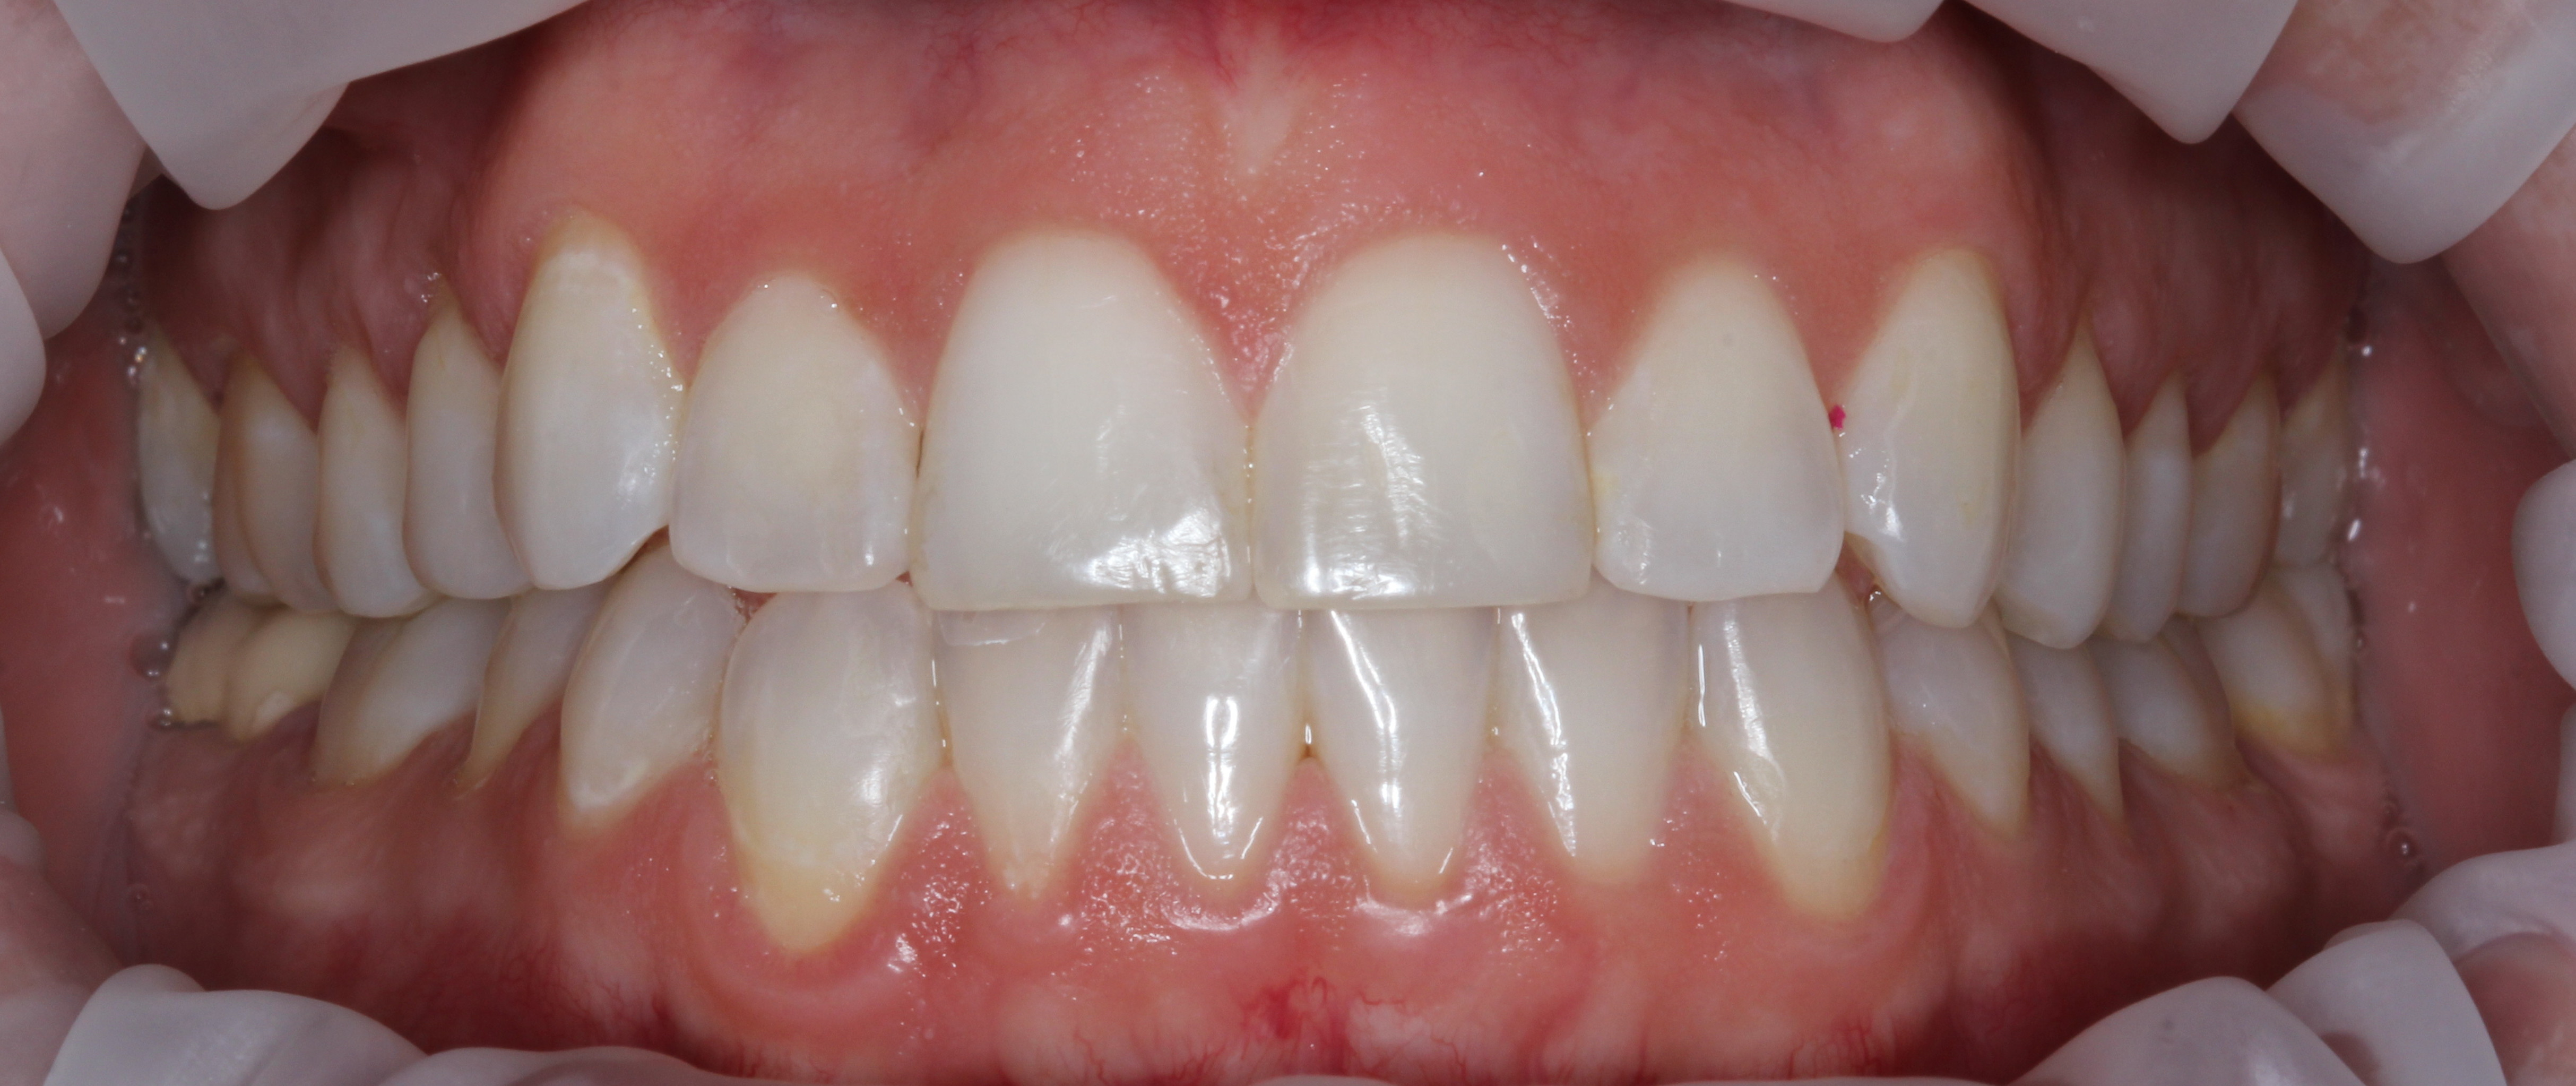LL1BC_healthy: (1886, 624, 2035, 828)
LL1M_healthy: (2119, 636, 2228, 784)
LL2BC_healthy: (2034, 651, 2114, 798)
LL2M_healthy: (2228, 603, 2361, 743)
LLCI_healthy: (1299, 613, 1495, 884)
LLC_healthy: (1692, 601, 1889, 902)
LLLI_healthy: (1495, 606, 1687, 871)
LR1BC_healthy: (565, 593, 726, 813)
LR1M_healthy: (330, 616, 468, 780)
LR2BC_healthy: (481, 606, 570, 748)
LR2M_decay: (228, 624, 335, 739)
LR3M_decay: (163, 608, 237, 728)
LRCI_healthy: (1130, 613, 1299, 866)
LRC_healthy: (726, 595, 931, 909)
LRLI_healthy: (931, 613, 1129, 874)
UL1BC_healthy: (2021, 345, 2124, 646)
UL1M_healthy: (2198, 401, 2280, 626)
UL2BC_healthy: (2126, 401, 2188, 634)
ULCI_healthy: (1250, 237, 1594, 603)
ULC_healthy: (1851, 255, 2022, 624)
ULLI_healthy: (1599, 268, 1847, 598)
UR1BC_healthy: (404, 302, 496, 603)
UR1M_healthy: (223, 376, 320, 624)
UR2BC_healthy: (320, 366, 406, 616)
UR2M_healthy: (135, 358, 218, 578)
URCI_healthy: (912, 235, 1247, 611)
URC_healthy: (494, 246, 677, 591)
URLI_healthy: (677, 284, 913, 593)
